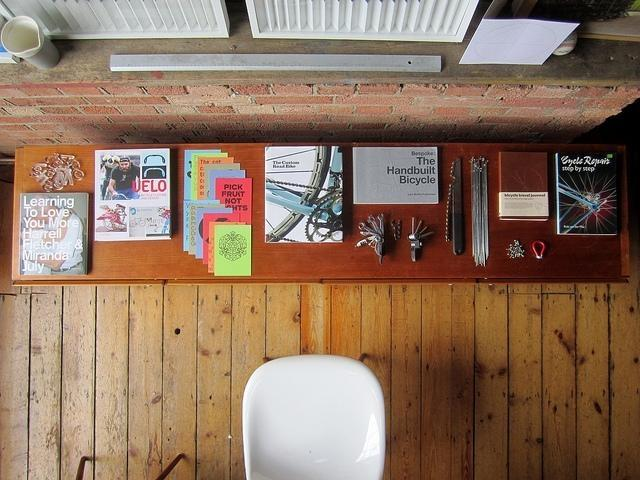bicycle: (266, 146, 343, 244)
